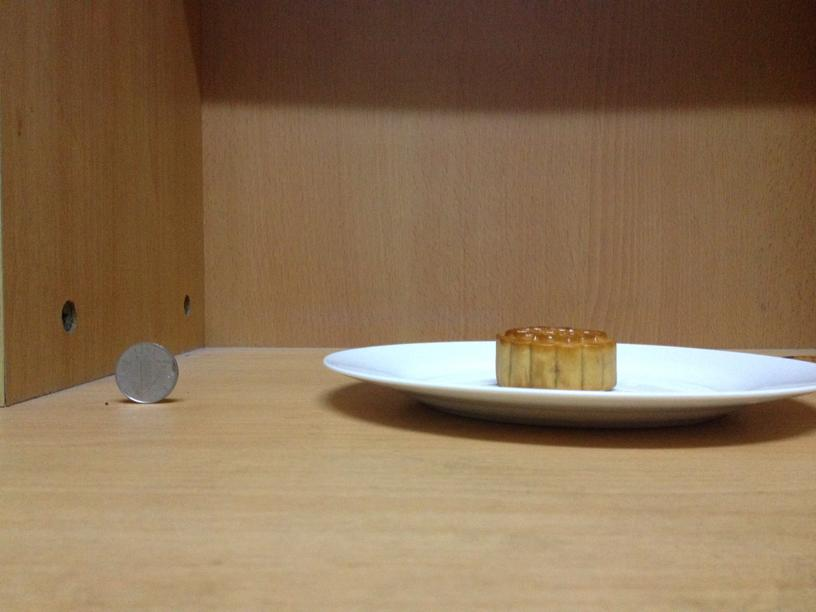coin: (114, 340, 178, 404)
mooncake: (493, 324, 617, 389)
